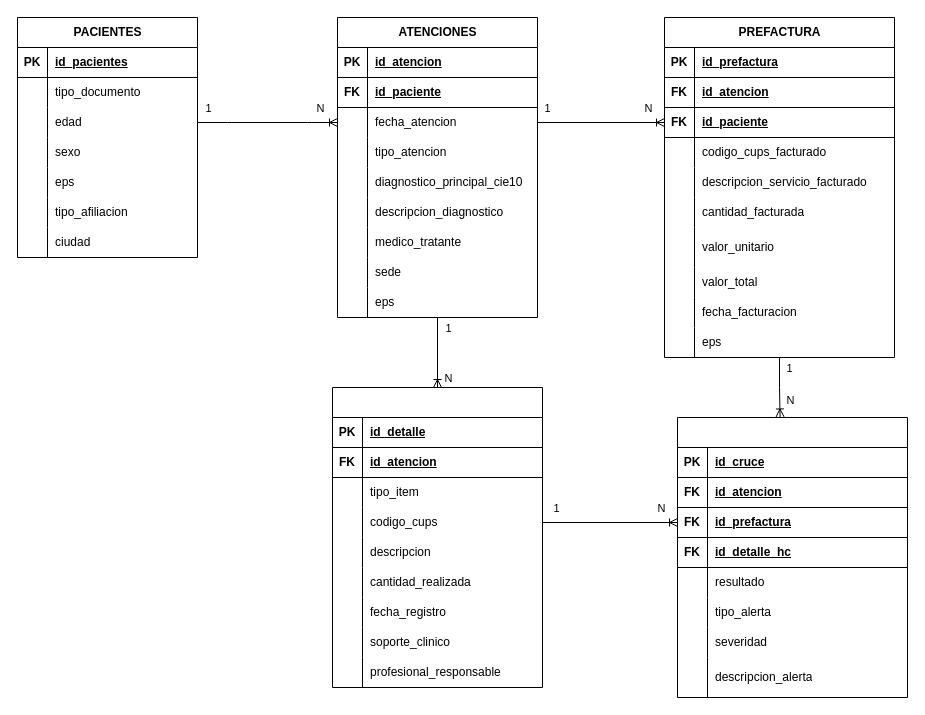
Image size: 925x715. Some labels were removed from this diagram. Each missing label, with the box of its shape:
CRUCE_VALIDACION: (676, 416, 908, 698)
HISTORIA_CLINICA_DETALLE: (332, 386, 542, 688)
